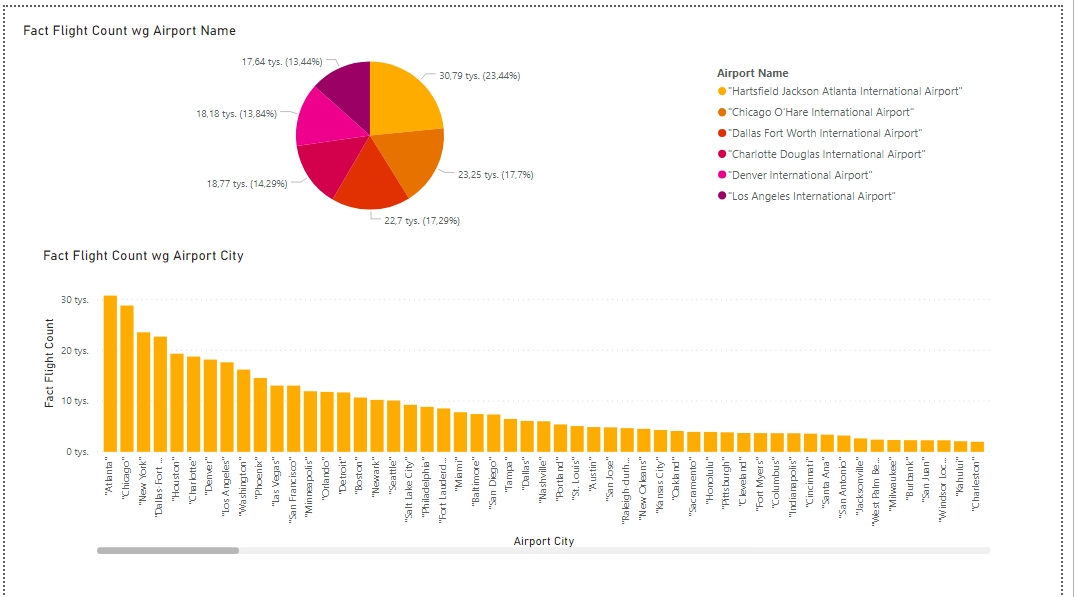

Layout of this report page (visuals, bound fields, positions):
{"tool":"powerbi","page":{"name":"Strona 1","canvas":[1280,720],"ordinal":0},"visuals":[{"type":"pieChart","fields":{"Y":["Fact Flight.Fact Flight Count"],"Category":["Destination Airport.Airport Name"]},"box":[16.4,17.8,1158,256.3],"z":0},{"type":"clusteredColumnChart","fields":{"Y":["Fact Flight.Fact Flight Count"],"Category":["Destination Airport.Airport City"]},"box":[41,290.4,1158.5,377.2],"z":1000}]}

Visuals, with their boxes in screenshot pixels (x1, y1, x2, y2), scaled from the page's 1280x720 canvas onto the 1077x597 screenshot:
pieChart - Fact Flight.Fact Flight Count x Destination Airport.Airport Name: box(14, 15, 988, 227)
clusteredColumnChart - Fact Flight.Fact Flight Count x Destination Airport.Airport City: box(34, 241, 1009, 554)
